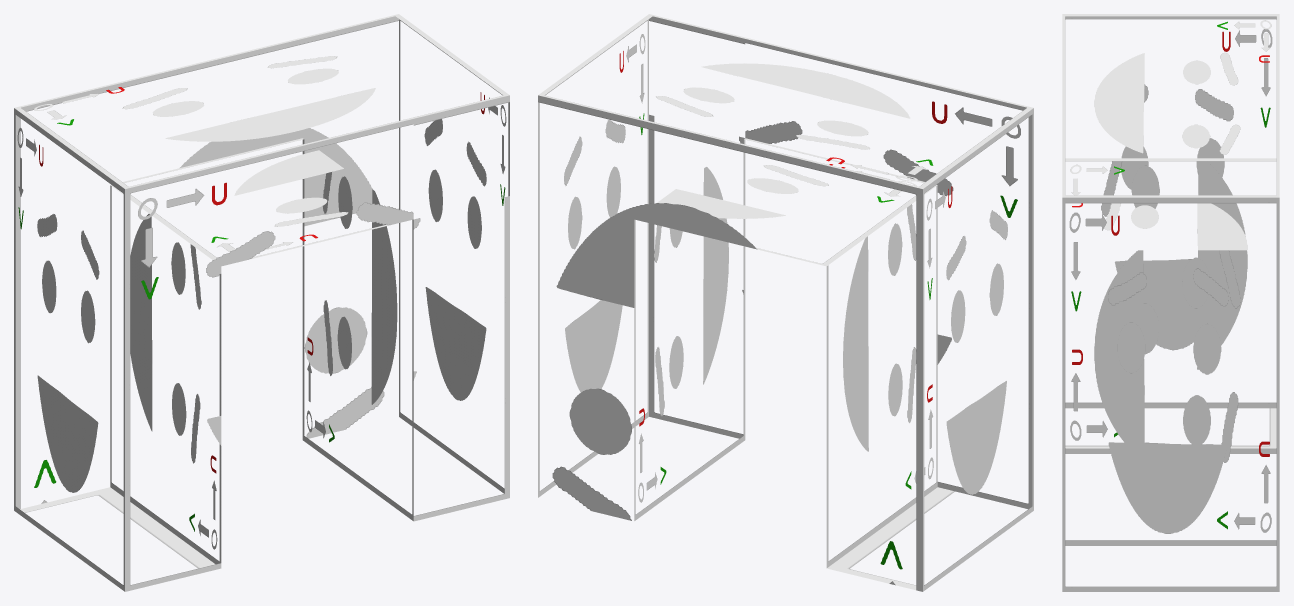
Rendered from doorway.fbx.
The picture shows the model from 3 angles, left to right: view 1: azimuth 30°, elevation 25°; view 2: azimuth 150°, elevation 25°; view 3: azimuth 270°, elevation 25°; orthographic projection. The views are drawn at different scales.
Parts seen in each view (by area): view 1: pCube2; view 2: pCube2; view 3: pCube2.
Boxes of the visible parts, <box> form: pCube2: <box>14,14,509,591</box>; pCube2: <box>538,14,1033,591</box>; pCube2: <box>1062,14,1279,591</box>.
Size of the model in its own units: 1 by 1 by 0.5.
